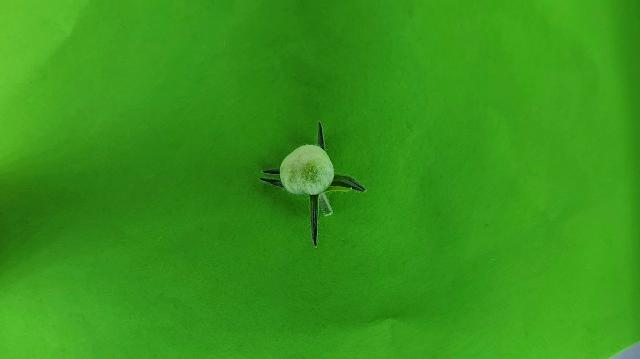Fruit Maturation: (279, 144, 335, 196)
